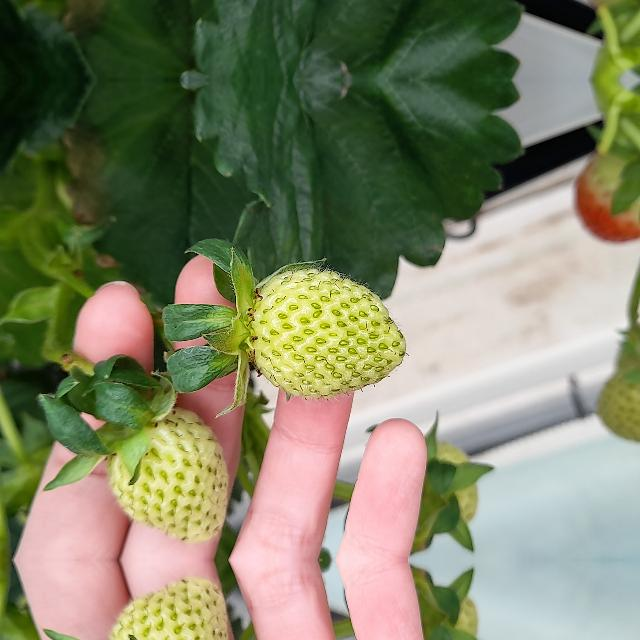Health_25: (250, 268, 406, 398), (105, 416, 225, 540), (105, 580, 225, 640)
